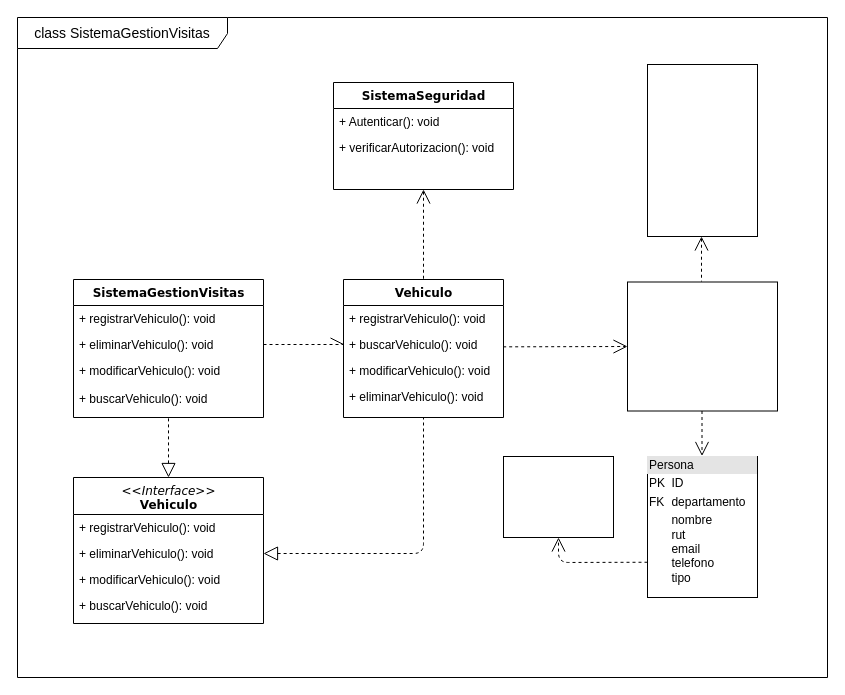
Some shapes in this 845 by 695 pixel diagram are drawn without their labels. Here are the shapes that lost their labels. From the top down, the centre of each, then its label:
At point 702,150: "Usuario PK ID login clave estado rut nombre email telefono".
At point 702,346: "Vehiculo PK ID patente FK persona dueño estacionamiento deptoAsociado".
At point 558,497: "Departamentos PK ID numero".
